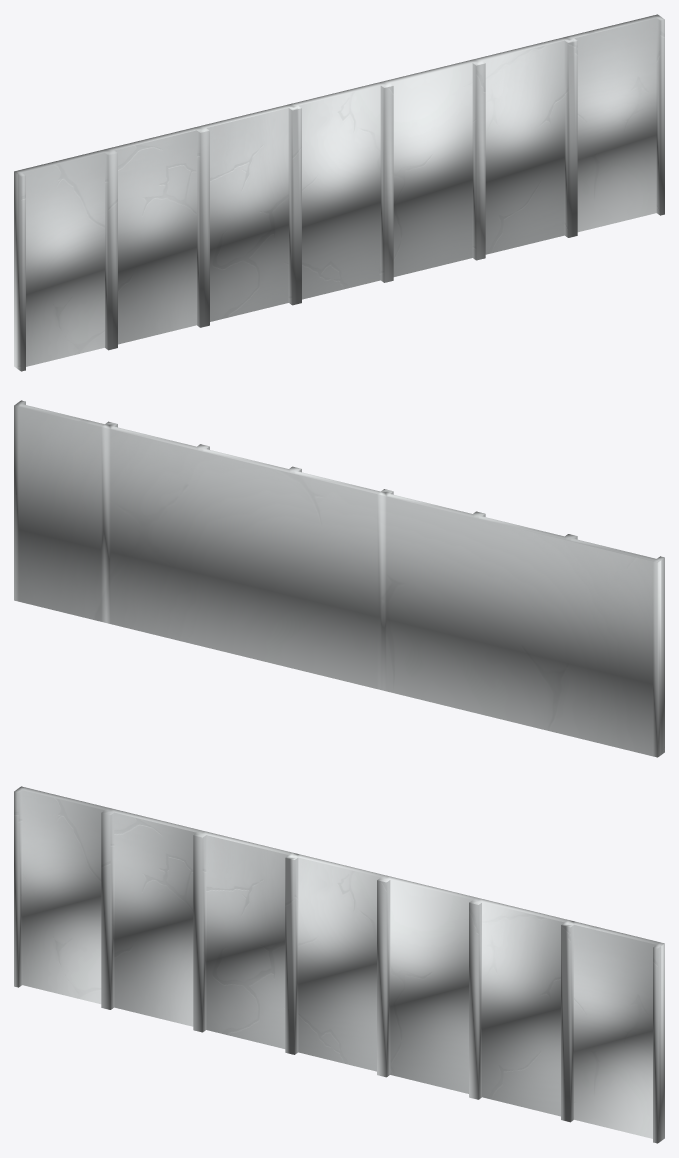
Rendered from ToyFactory Wall 1.fbx.
3 views of the same model, one above another, from view 1: azimuth 30°, elevation 25°; view 2: azimuth 150°, elevation 25°; view 3: azimuth 330°, elevation 25° (orthographic).
Visible parts, largest first — view 1: Cube_012_4; view 2: Cube_012_4; view 3: Cube_012_4.
Part boxes in pixels (x1,y1,x2,y2): Cube_012_4: [14, 14, 664, 371]; Cube_012_4: [14, 400, 664, 757]; Cube_012_4: [14, 786, 664, 1143].
Bounding box in the file's own units: 638 × 184 × 12.31.
1 material, 1 textured.
